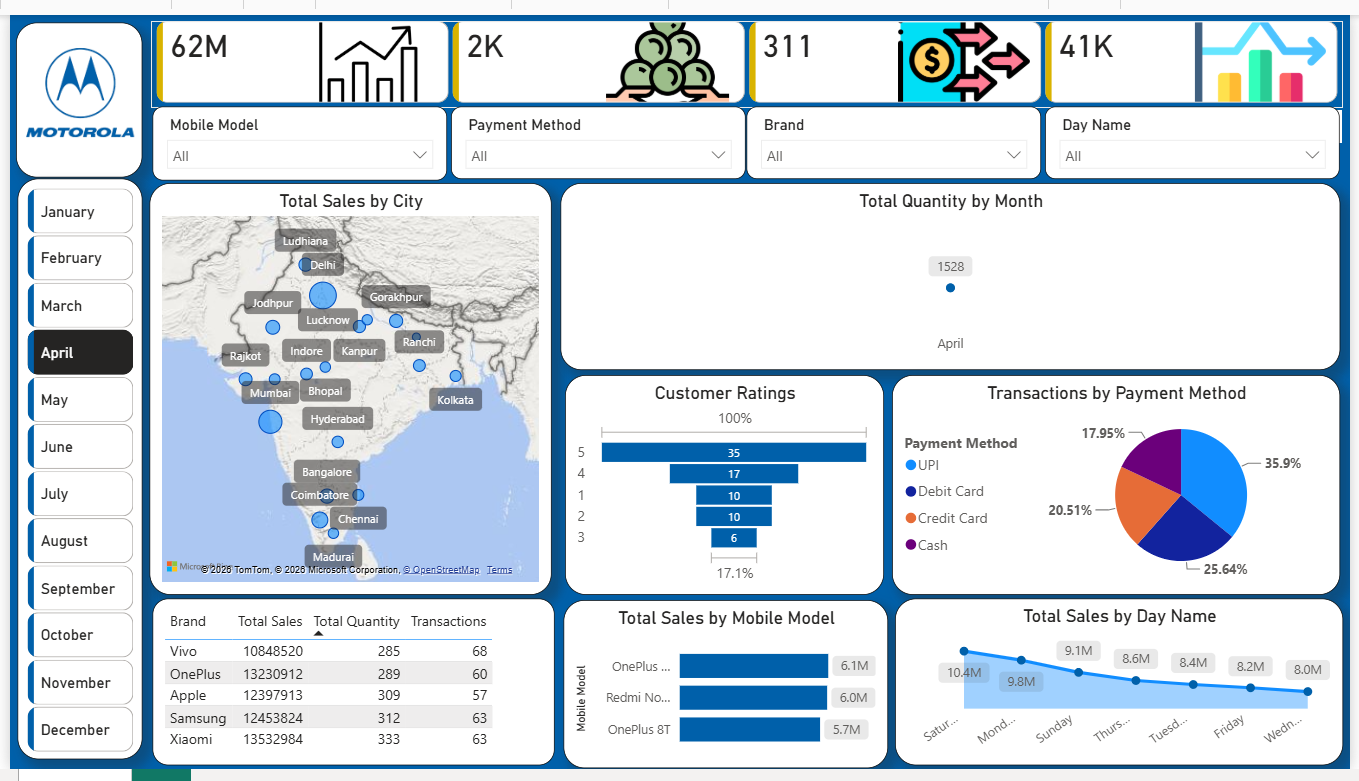

The page's visual inventory and layout, read from the dashboard file:
{"tool":"powerbi","page":{"name":"Page 1","canvas":[1280,720],"ordinal":0},"visuals":[{"type":"shape","box":[5.5,6.9,120.8,148.2],"z":0},{"type":"image","box":[9.6,16.5,113.9,116.6],"z":1000},{"type":"shape","box":[6.9,156.4,119.4,554.4],"z":2000},{"type":"advancedSlicerVisual","fields":{"Values":["Sales_Data.Date.Variation.Date Hierarchy.Month"]},"box":[11,160.5,111.1,548.9],"z":3000},{"type":"cardVisual","fields":{"Data":["Sales_Data.Total Sales","Sales_Data.Total Quantity","Sales_Data.Transactions","Sales_Data.Average"]},"box":[134,5.6,1140.1,83.7],"z":4000},{"type":"map","fields":{"Category":["Sales_Data.City"],"Size":["Sales_Data.Total Sales"]},"box":[132.9,160.8,384.1,393.1],"z":5000},{"type":"lineChart","fields":{"Category":["Sales_Data.Date.Variation.Date Hierarchy.Month","Sales_Data.Date.Variation.Date Hierarchy.Day"],"Y":["Sales_Data.Total Quantity"]},"box":[525.9,160.8,744.8,178.7],"z":6000},{"type":"clusteredBarChart","fields":{"Category":["Sales_Data.Mobile Model"],"Y":["Sales_Data.Total Sales"]},"box":[528.3,558.5,310.1,160.5],"z":7000},{"type":"pieChart","fields":{"Category":["Sales_Data.Payment Method"],"Y":["Sales_Data.Transactions"]},"box":[842.5,344.4,428.1,209.9],"z":8000},{"type":"funnel","title":"Customer Ratings","fields":{"Category":["Sales_Data.Customer Ratings"],"Y":["CountNonNull(Sales_Data.Customer Ratings)"]},"box":[529.7,344.4,304.6,209.9],"z":9000},{"type":"areaChart","fields":{"Category":["Sales_Data.Day Name"],"Y":["Sales_Data.Total Sales"]},"box":[845.3,557.1,428.1,159.2],"z":10000},{"type":"tableEx","fields":{"Values":["Sales_Data.Brand","Sales_Data.Total Sales","Sales_Data.Total Quantity","Sales_Data.Transactions"]},"box":[135.8,557.1,384.2,159.2],"z":11000},{"type":"slicer","fields":{"Values":["Sales_Data.Mobile Model"]},"box":[136.2,87.1,281.4,70.3],"z":12000},{"type":"slicer","fields":{"Values":["Sales_Data.Payment Method"]},"box":[421,87.1,281.4,69.2],"z":13000},{"type":"slicer","fields":{"Values":["Sales_Data.Brand"]},"box":[703.5,87.1,281.4,69.2],"z":14000},{"type":"slicer","fields":{"Values":["Sales_Data.Day Name"]},"box":[988.2,87.1,281.4,69.2],"z":15000}]}

Visuals, with their boxes in screenshot pixels (x1, y1, x2, y2), scaled from the page's 1280x720 canvas onto the 1359x781 screenshot:
shape: {"x1": 6, "y1": 7, "x2": 134, "y2": 168}
image: {"x1": 10, "y1": 18, "x2": 131, "y2": 144}
shape: {"x1": 7, "y1": 170, "x2": 134, "y2": 771}
advancedSlicerVisual - Sales_Data.Date.Variation.Date Hierarchy.Month: {"x1": 12, "y1": 174, "x2": 130, "y2": 770}
cardVisual - Sales_Data.Total Sales x Sales_Data.Total Quantity: {"x1": 142, "y1": 6, "x2": 1353, "y2": 97}
map - Sales_Data.City x Sales_Data.Total Sales: {"x1": 141, "y1": 174, "x2": 549, "y2": 601}
lineChart - Sales_Data.Date.Variation.Date Hierarchy.Month x Sales_Data.Date.Variation.Date Hierarchy.Day: {"x1": 558, "y1": 174, "x2": 1349, "y2": 368}
clusteredBarChart - Sales_Data.Mobile Model x Sales_Data.Total Sales: {"x1": 561, "y1": 606, "x2": 890, "y2": 780}
pieChart - Sales_Data.Payment Method x Sales_Data.Transactions: {"x1": 894, "y1": 374, "x2": 1349, "y2": 601}
"Customer Ratings" funnel: {"x1": 562, "y1": 374, "x2": 886, "y2": 601}
areaChart - Sales_Data.Day Name x Sales_Data.Total Sales: {"x1": 897, "y1": 604, "x2": 1352, "y2": 777}
tableEx - Sales_Data.Brand x Sales_Data.Total Sales: {"x1": 144, "y1": 604, "x2": 552, "y2": 777}
slicer - Sales_Data.Mobile Model: {"x1": 145, "y1": 94, "x2": 443, "y2": 171}
slicer - Sales_Data.Payment Method: {"x1": 447, "y1": 94, "x2": 746, "y2": 170}
slicer - Sales_Data.Brand: {"x1": 747, "y1": 94, "x2": 1046, "y2": 170}
slicer - Sales_Data.Day Name: {"x1": 1049, "y1": 94, "x2": 1348, "y2": 170}
